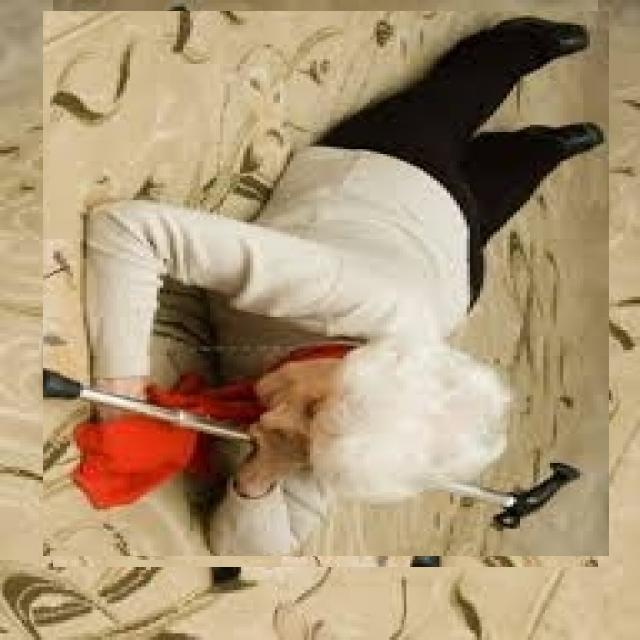Fall: (37, 0, 640, 613)
